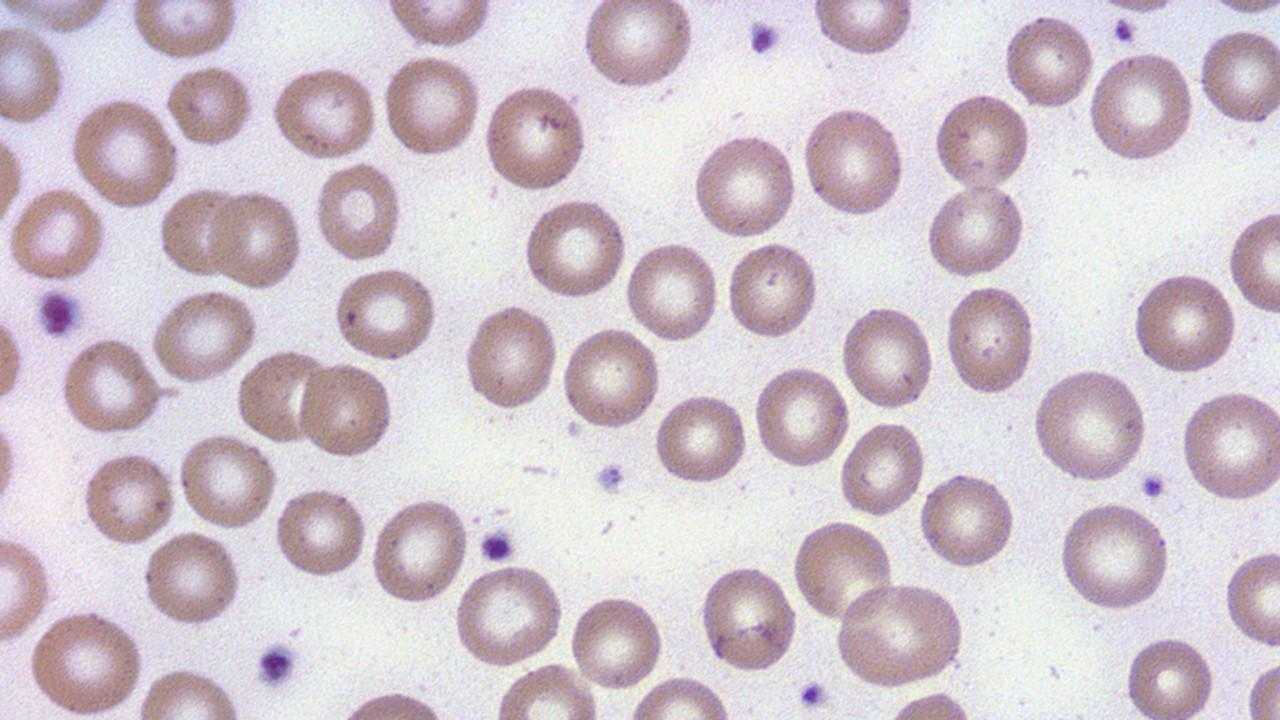Platelets: (33, 288, 87, 338), (254, 636, 302, 690), (476, 526, 518, 565), (746, 17, 782, 60), (591, 460, 627, 495), (1138, 470, 1168, 500), (1109, 16, 1139, 45)
RBC: (832, 578, 969, 692), (1032, 363, 1150, 486), (1056, 498, 1174, 614), (25, 606, 146, 716), (1085, 48, 1197, 164), (480, 82, 591, 197), (801, 103, 907, 222), (71, 95, 179, 210), (694, 560, 800, 677), (450, 562, 564, 670), (691, 128, 798, 240), (789, 516, 897, 626), (1131, 268, 1239, 378), (1178, 388, 1280, 504), (520, 196, 630, 302), (368, 494, 470, 608), (380, 53, 484, 162), (558, 324, 662, 432), (943, 281, 1039, 398), (57, 336, 166, 439), (460, 302, 560, 413), (838, 303, 938, 414), (580, 0, 697, 94), (331, 264, 442, 363), (752, 362, 851, 472), (269, 63, 380, 161), (141, 528, 245, 630), (622, 238, 720, 346), (150, 288, 260, 384), (177, 430, 280, 532), (924, 180, 1027, 282), (295, 360, 399, 461), (916, 470, 1017, 572), (930, 92, 1034, 191), (3, 188, 110, 284), (565, 590, 667, 690), (209, 186, 305, 292), (1000, 10, 1098, 112), (724, 239, 820, 343), (79, 448, 177, 549), (652, 390, 752, 488), (310, 159, 404, 263), (272, 483, 370, 582), (836, 417, 928, 520), (234, 349, 329, 444), (1196, 23, 1280, 129), (157, 184, 244, 282), (1120, 632, 1218, 718), (162, 64, 257, 150), (0, 22, 67, 128), (127, 2, 242, 61), (0, 528, 56, 648), (811, 1, 915, 61), (1222, 544, 1280, 649), (1226, 206, 1280, 318), (381, 2, 498, 52), (133, 666, 245, 718), (623, 674, 736, 718), (0, 294, 27, 418), (0, 116, 25, 240), (1244, 653, 1280, 716), (1201, 0, 1280, 20)
